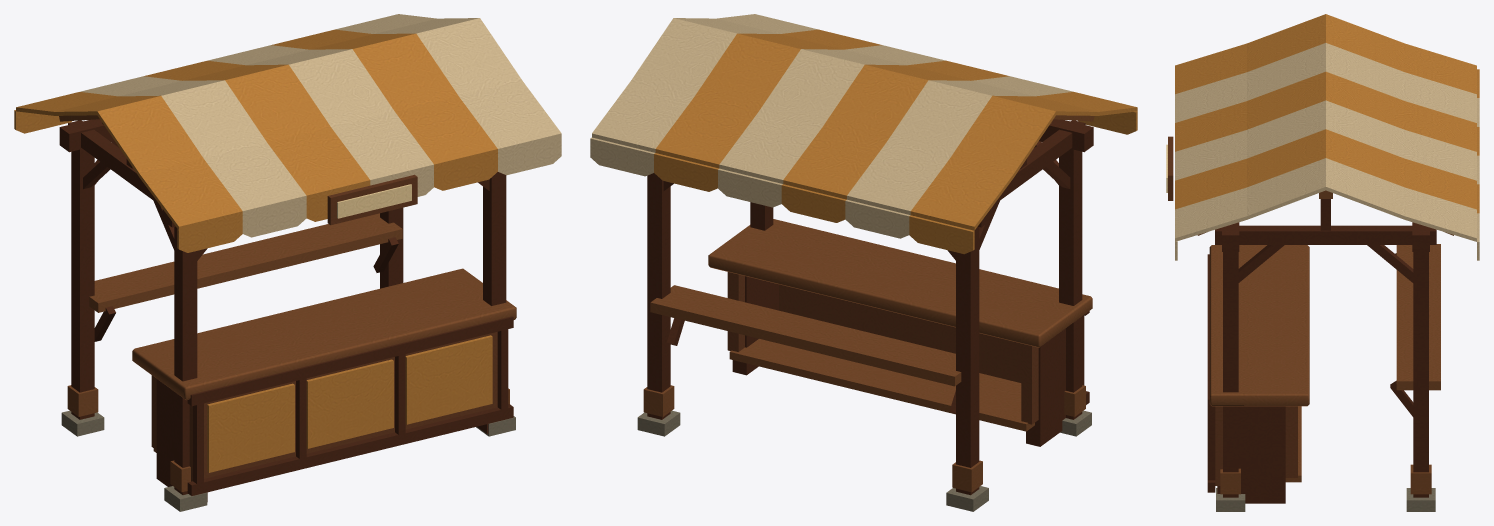
File: canopy_stall.glb
The picture shows the model from 3 angles, left to right: view 1: azimuth 30°, elevation 25°; view 2: azimuth 150°, elevation 25°; view 3: azimuth 270°, elevation 25°; orthographic projection. The views are drawn at different scales.
Parts seen in each view (by area): view 1: Stall_Canopy, Stall_Counter, Stall_Frame, Stall_RearShelf, Stall_BlankSign; view 2: Stall_Canopy, Stall_Counter, Stall_Frame, Stall_RearShelf; view 3: Stall_Canopy, Stall_Counter, Stall_Frame, Stall_RearShelf, Stall_BlankSign.
Part boxes in pixels (x1=…): Stall_Canopy: x1=14, y1=14, x2=561, y2=252; Stall_Counter: x1=132, y1=268, x2=516, y2=501; Stall_Frame: x1=59, y1=115, x2=515, y2=511; Stall_RearShelf: x1=89, y1=213, x2=402, y2=341; Stall_BlankSign: x1=327, y1=174, x2=417, y2=225; Stall_Canopy: x1=590, y1=14, x2=1137, y2=254; Stall_Counter: x1=708, y1=219, x2=1092, y2=446; Stall_Frame: x1=637, y1=115, x2=1094, y2=511; Stall_RearShelf: x1=650, y1=285, x2=961, y2=413; Stall_Canopy: x1=1175, y1=14, x2=1479, y2=260; Stall_Counter: x1=1207, y1=245, x2=1309, y2=503; Stall_Frame: x1=1197, y1=190, x2=1453, y2=511; Stall_RearShelf: x1=1390, y1=244, x2=1440, y2=416; Stall_BlankSign: x1=1166, y1=136, x2=1173, y2=200.
Size of the model in its own units: 3.52 by 3.19 by 2.7.
Materials: 7 (7 with a texture image).
